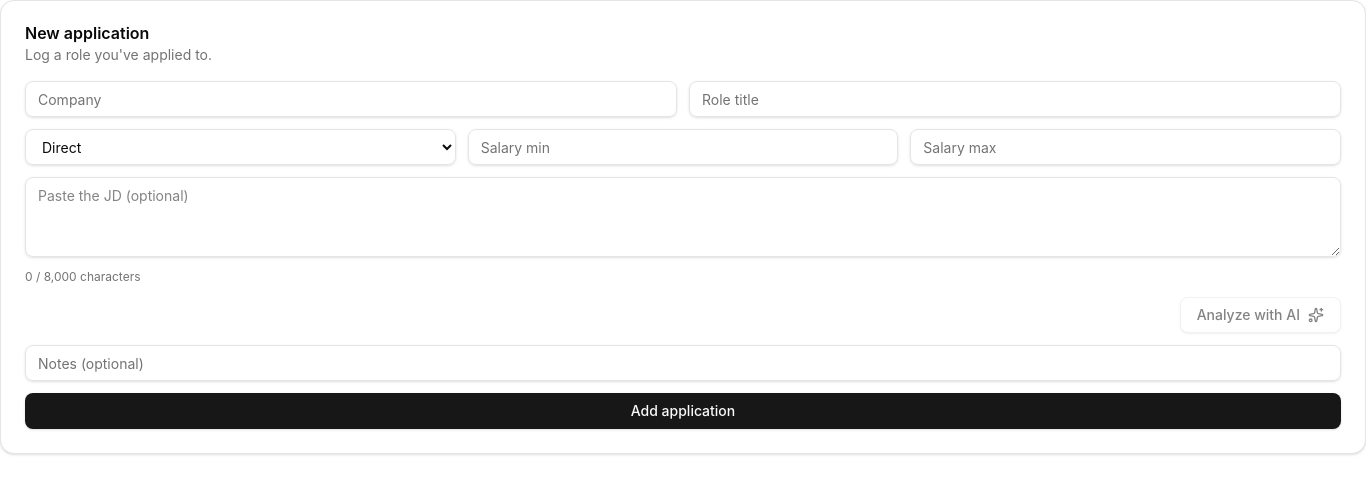
Test: ApplicationForm › shows a generic error message when the create request fails
The image size is (1366, 504).
Type "Acme Co" into the field with placeholder "Company". click: (351, 99)
box: [25, 81, 677, 117]
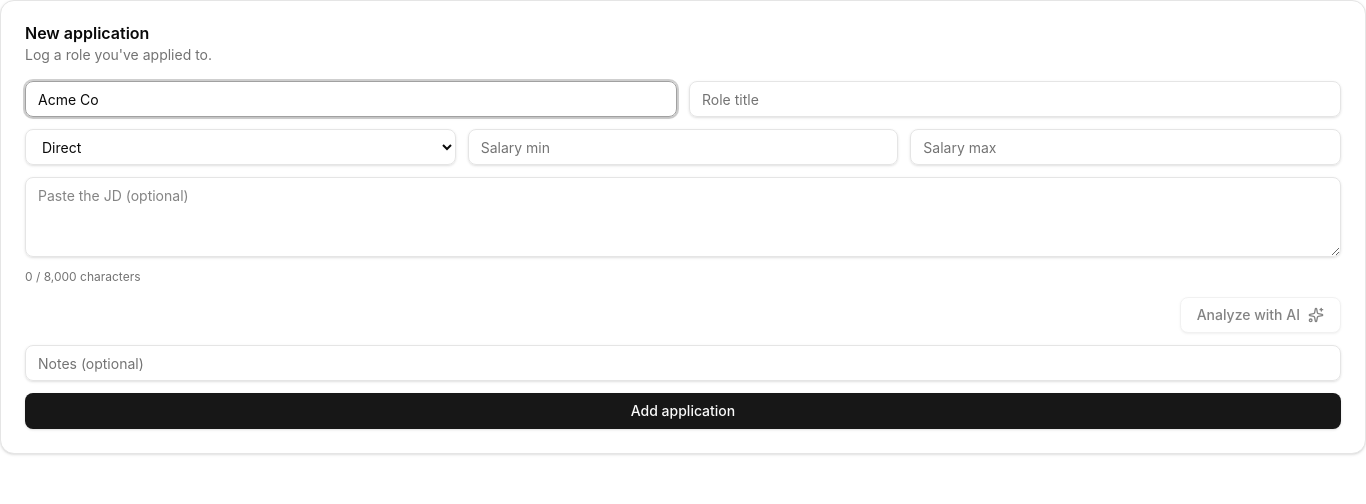
Type "Staff Engineer" into the field with placeholder "Role title". click: (1015, 99)
box: [689, 81, 1341, 117]
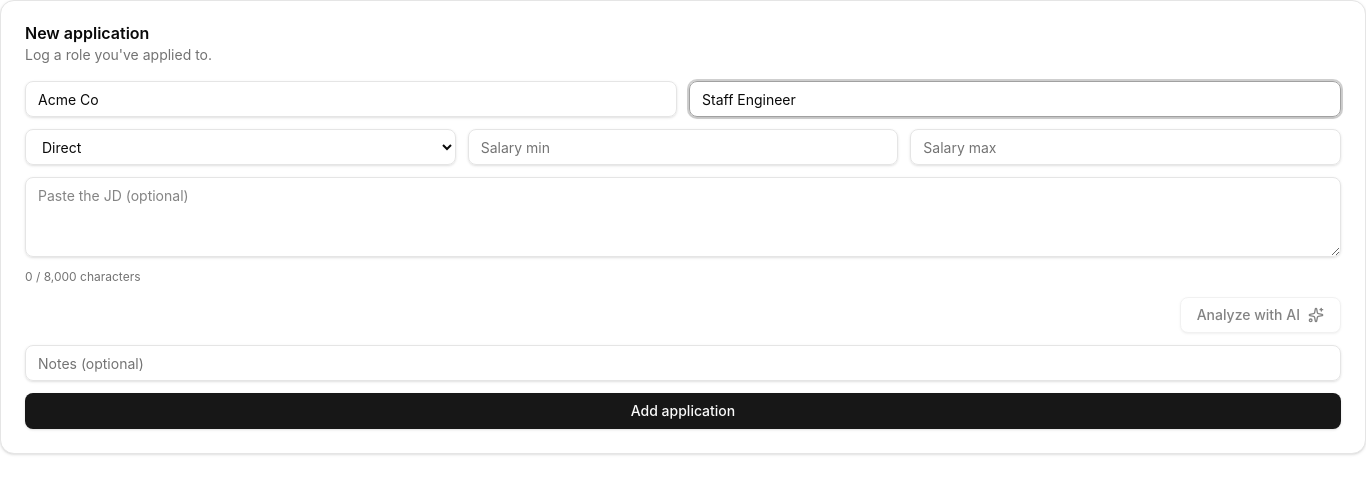
Click the button "Add application". click: (683, 411)
box: [25, 393, 1341, 429]
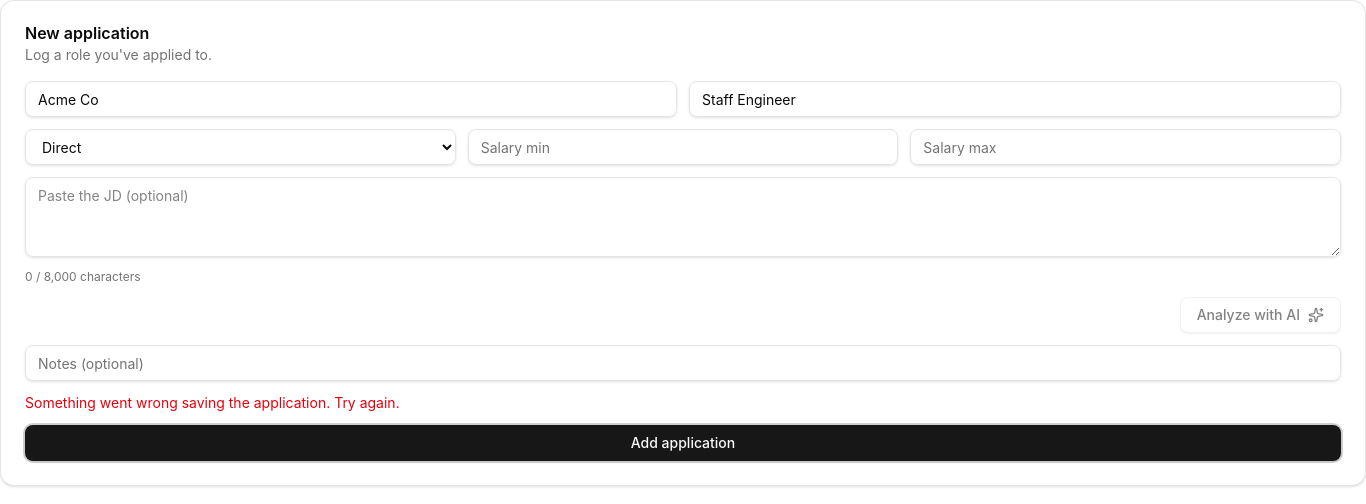
Now the text "Something went wrong saving the application. Try again." is shown, box [25, 394, 400, 411]
